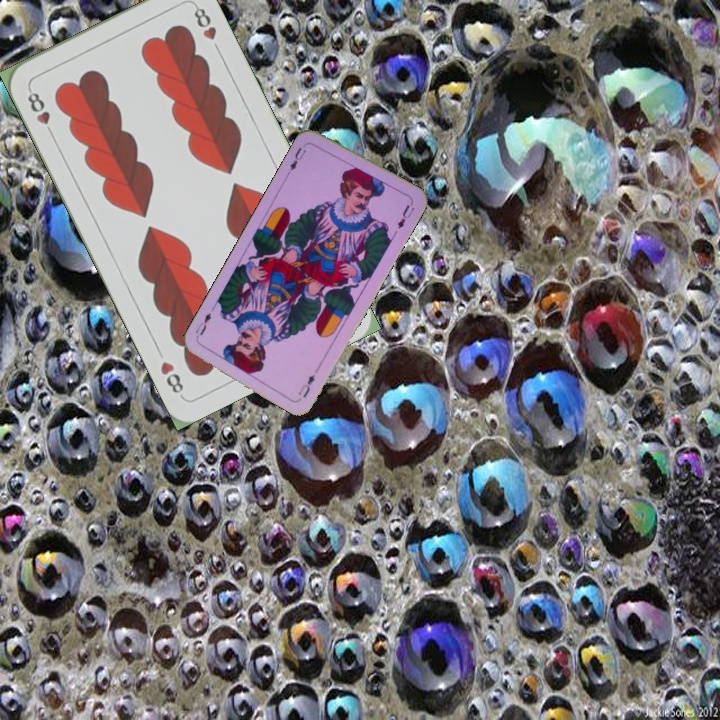EU: (286, 140, 309, 173), (294, 370, 318, 400)
H8: (23, 84, 57, 140)
